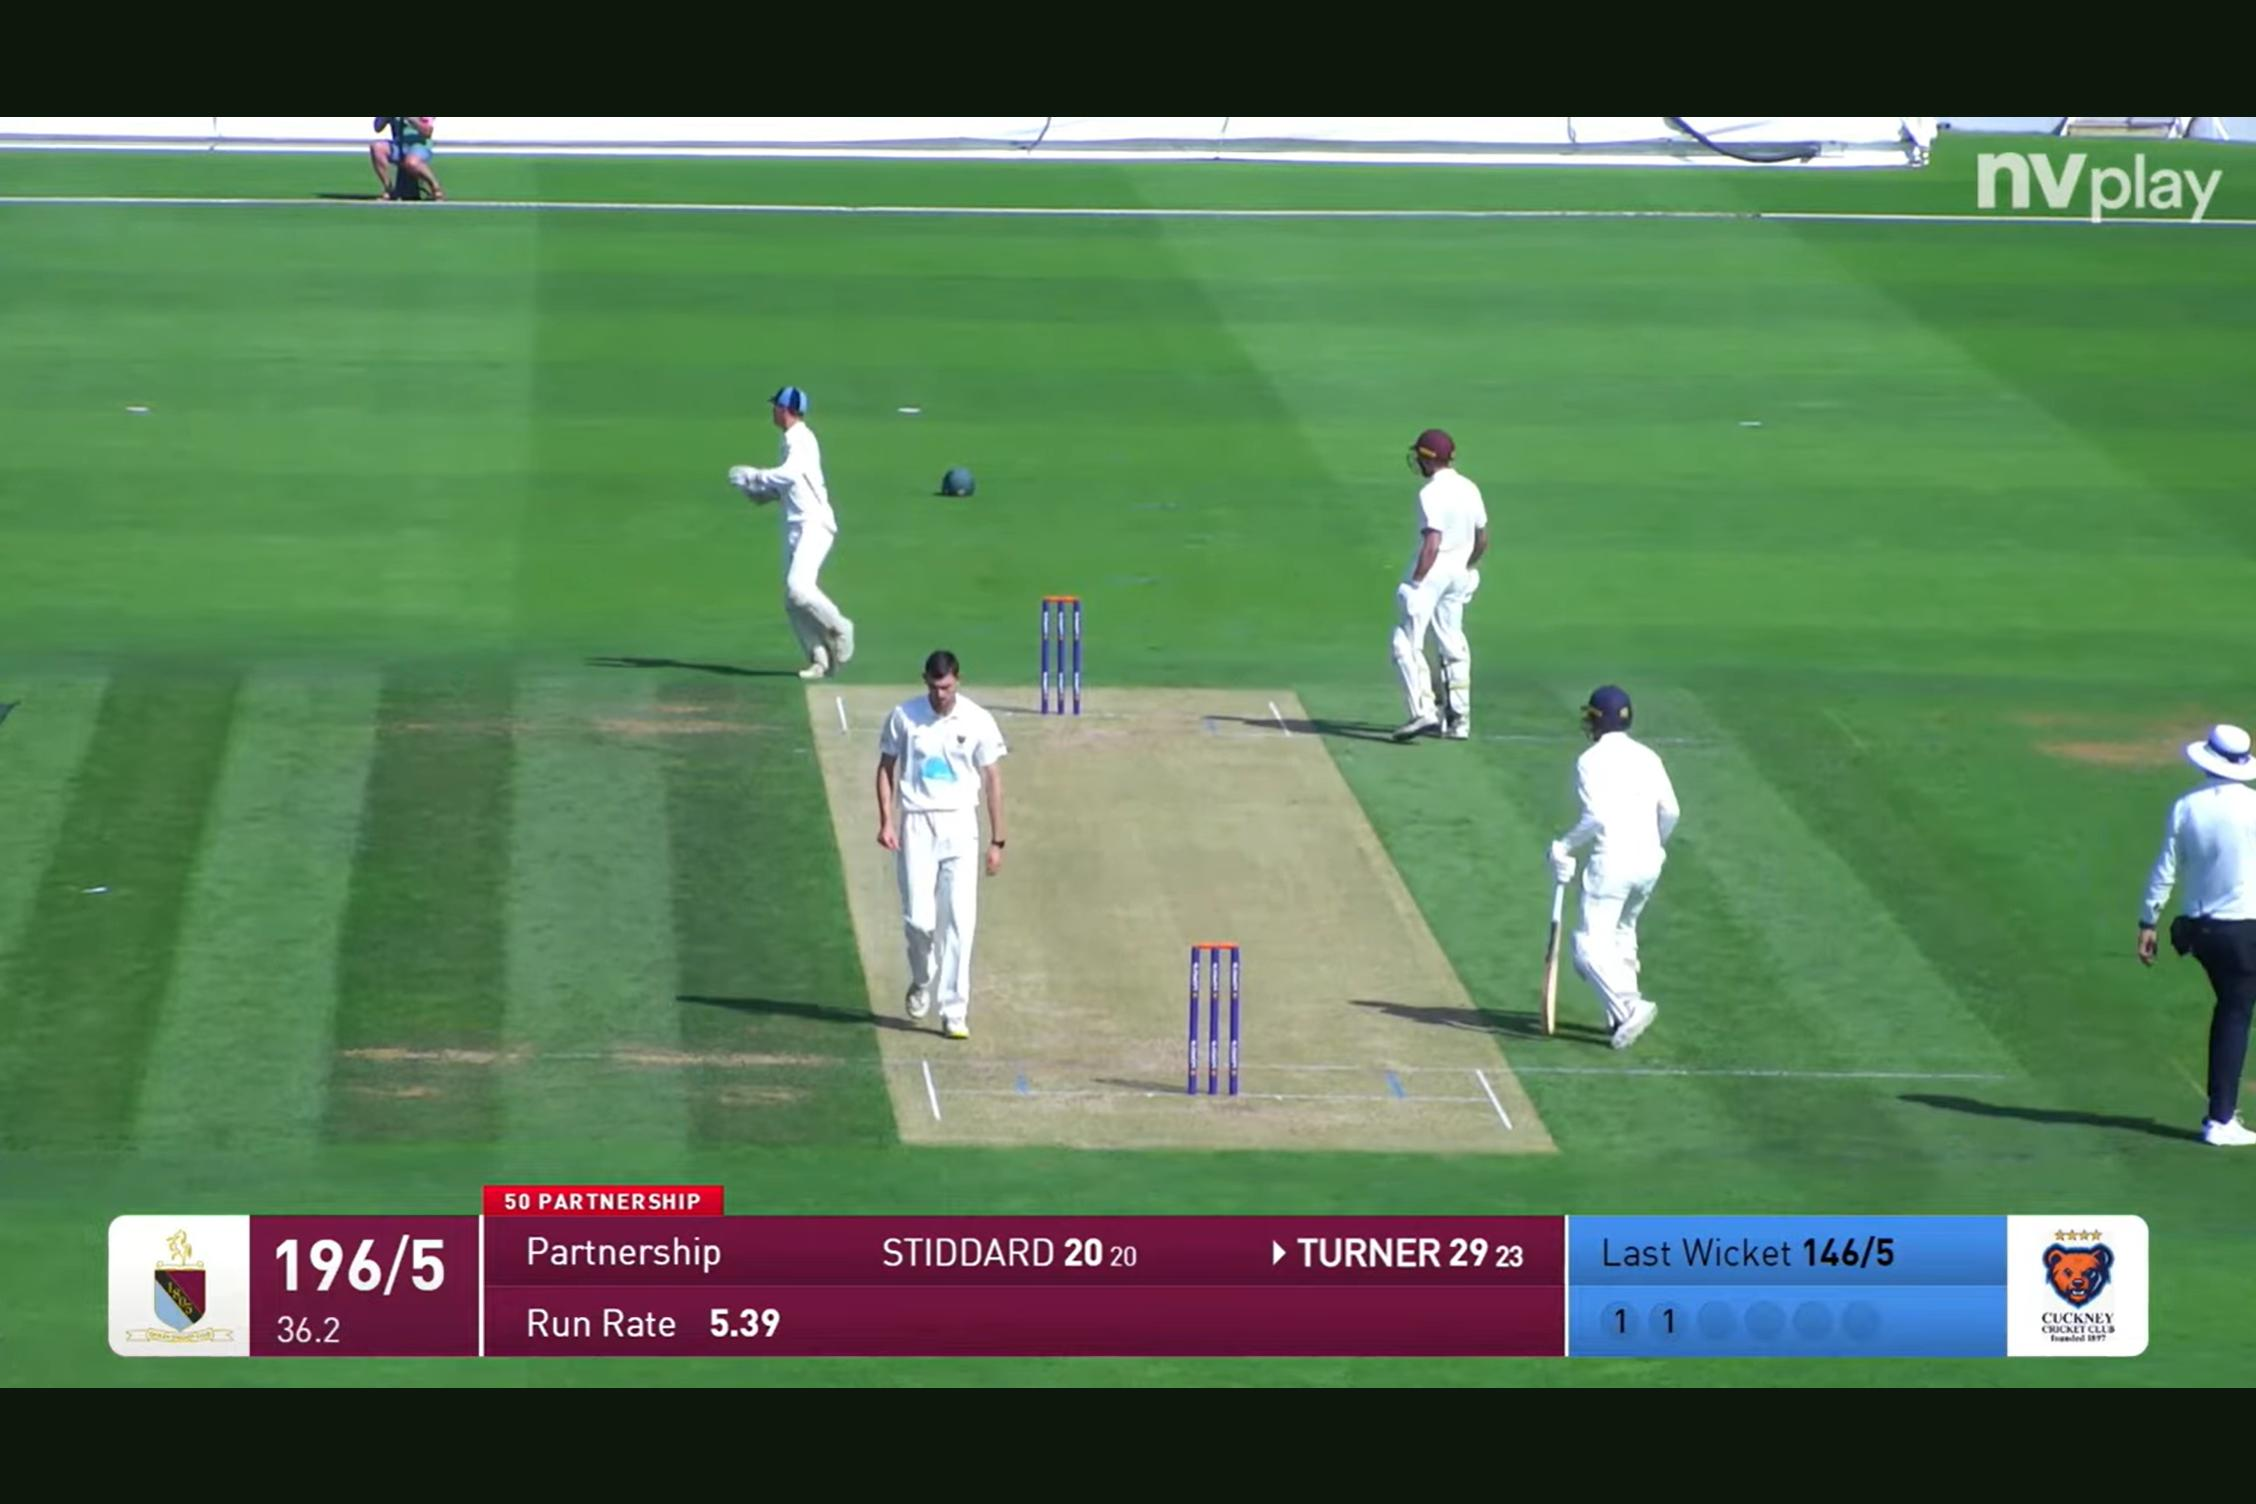bowler walking back: (854, 636, 1021, 1031)
wicket keeper: (692, 371, 880, 611)
